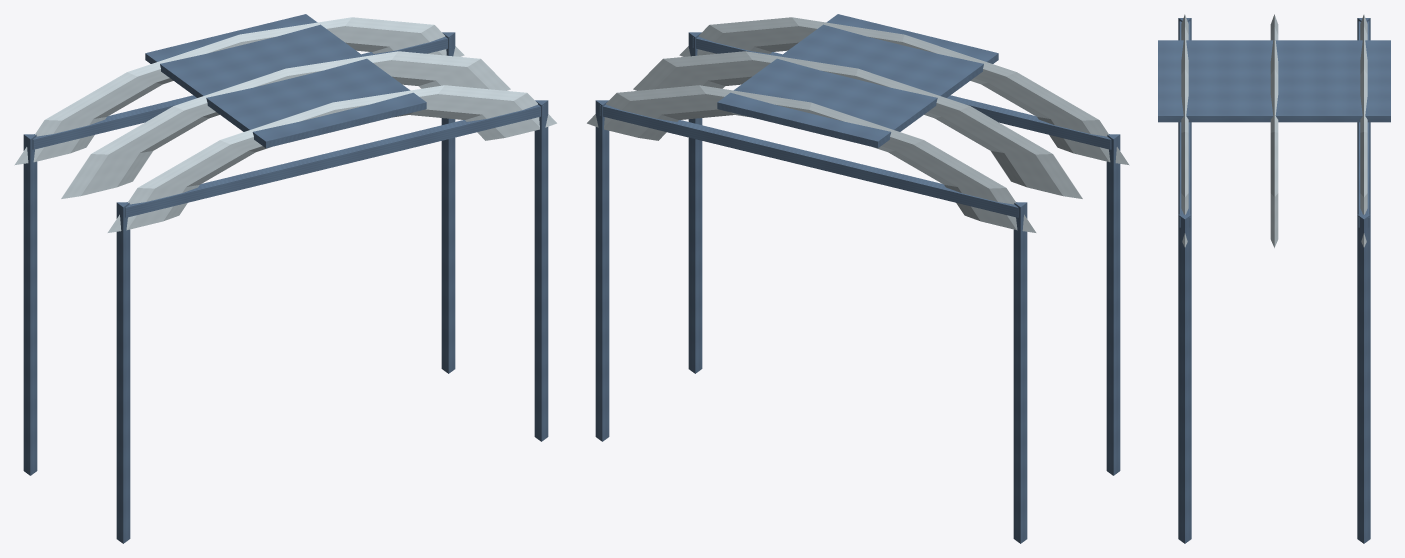
The model's file is atlas100-s051-a08.lod2.glb.
3 views of the same model, side by side, from view 1: azimuth 30°, elevation 25°; view 2: azimuth 150°, elevation 25°; view 3: azimuth 270°, elevation 25° (orthographic). The views are drawn at different scales.
Visible parts, largest first — view 1: atlas100-s051-a08:part-013, atlas100-s051-a08:part-011, atlas100-s051-a08:part-012, atlas100-s051-a08:part-010, atlas100-s051-a08:part-009, atlas100-s051-a08:part-000, atlas100-s051-a08:part-002, atlas100-s051-a08:part-006, atlas100-s051-a08:part-004, atlas100-s051-a08:part-008; view 2: atlas100-s051-a08:part-013, atlas100-s051-a08:part-011, atlas100-s051-a08:part-010, atlas100-s051-a08:part-012, atlas100-s051-a08:part-008, atlas100-s051-a08:part-002, atlas100-s051-a08:part-000, atlas100-s051-a08:part-004, atlas100-s051-a08:part-006, atlas100-s051-a08:part-009; view 3: atlas100-s051-a08:part-013, atlas100-s051-a08:part-004, atlas100-s051-a08:part-006, atlas100-s051-a08:part-011, atlas100-s051-a08:part-010, atlas100-s051-a08:part-012, atlas100-s051-a08:part-008, atlas100-s051-a08:part-009, atlas100-s051-a08:part-000, atlas100-s051-a08:part-002.
Boxes of the visible parts, bbox=[...] form: atlas100-s051-a08:part-013: bbox=[145, 14, 426, 148]; atlas100-s051-a08:part-011: bbox=[61, 51, 510, 198]; atlas100-s051-a08:part-012: bbox=[107, 85, 556, 232]; atlas100-s051-a08:part-010: bbox=[14, 17, 464, 165]; atlas100-s051-a08:part-009: bbox=[125, 104, 544, 217]; atlas100-s051-a08:part-000: bbox=[23, 134, 37, 475]; atlas100-s051-a08:part-002: bbox=[116, 202, 130, 543]; atlas100-s051-a08:part-006: bbox=[534, 100, 548, 441]; atlas100-s051-a08:part-004: bbox=[441, 32, 455, 373]; atlas100-s051-a08:part-008: bbox=[32, 36, 451, 149]; atlas100-s051-a08:part-013: bbox=[717, 14, 998, 148]; atlas100-s051-a08:part-011: bbox=[633, 51, 1082, 198]; atlas100-s051-a08:part-010: bbox=[587, 85, 1036, 232]; atlas100-s051-a08:part-012: bbox=[679, 17, 1129, 165]; atlas100-s051-a08:part-008: bbox=[599, 104, 1018, 217]; atlas100-s051-a08:part-002: bbox=[1106, 134, 1120, 475]; atlas100-s051-a08:part-000: bbox=[1013, 202, 1027, 543]; atlas100-s051-a08:part-004: bbox=[595, 100, 609, 441]; atlas100-s051-a08:part-006: bbox=[688, 32, 702, 373]; atlas100-s051-a08:part-009: bbox=[692, 36, 1111, 149]; atlas100-s051-a08:part-013: bbox=[1158, 40, 1390, 122]; atlas100-s051-a08:part-004: bbox=[1357, 214, 1370, 543]; atlas100-s051-a08:part-006: bbox=[1178, 214, 1191, 543]; atlas100-s051-a08:part-011: bbox=[1270, 14, 1278, 247]; atlas100-s051-a08:part-010: bbox=[1360, 14, 1367, 247]; atlas100-s051-a08:part-012: bbox=[1181, 14, 1188, 247]; atlas100-s051-a08:part-008: bbox=[1358, 21, 1369, 227]; atlas100-s051-a08:part-009: bbox=[1179, 21, 1190, 227]; atlas100-s051-a08:part-000: bbox=[1357, 18, 1370, 214]; atlas100-s051-a08:part-002: bbox=[1178, 18, 1191, 214].
Size of the model in its own units: 5.6 by 4.6 by 2.6.
2 materials, 2 textured.
